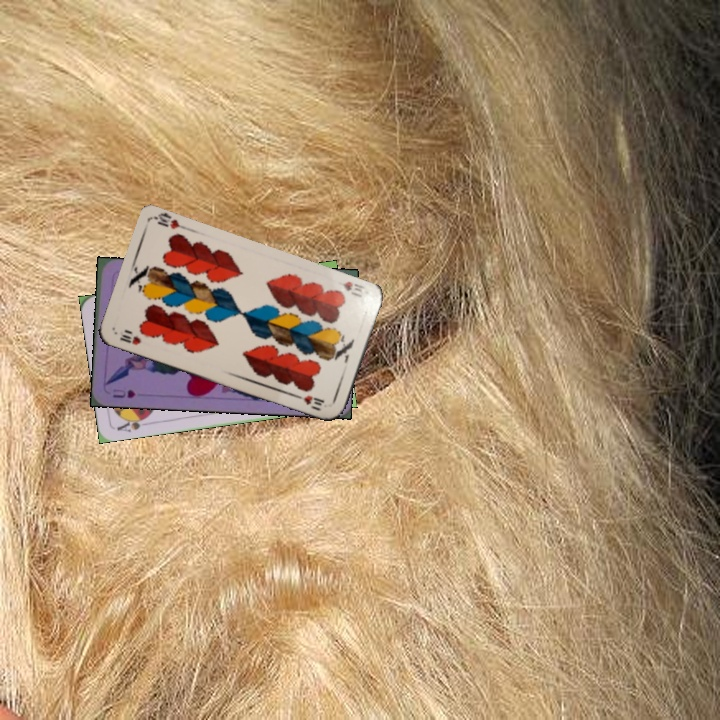H10: (338, 277, 367, 300), (116, 326, 144, 348)
HU: (109, 385, 138, 401)
SA: (113, 412, 151, 435)
